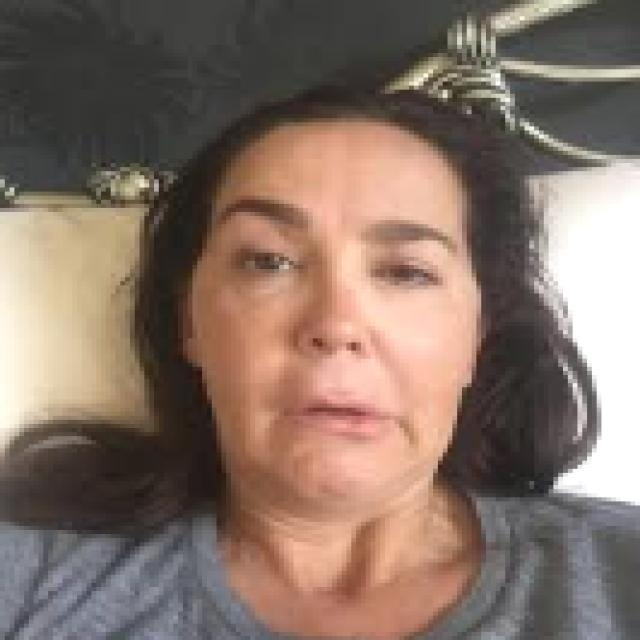stroke_face: (177, 125, 482, 514)
